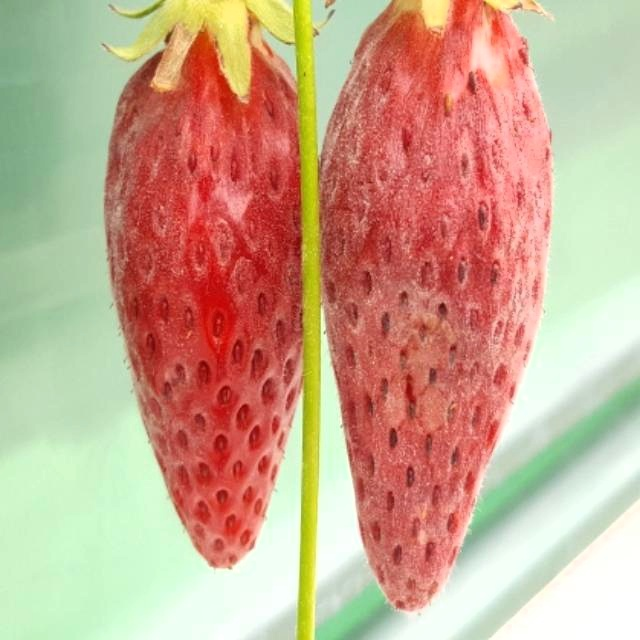Powdery Mildew Fruit: (318, 0, 556, 615), (104, 23, 307, 573)
